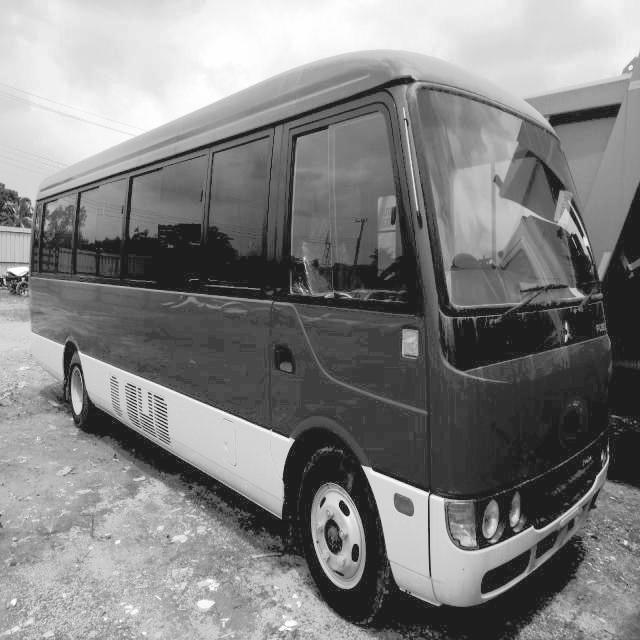Bus: (7, 28, 625, 640)
